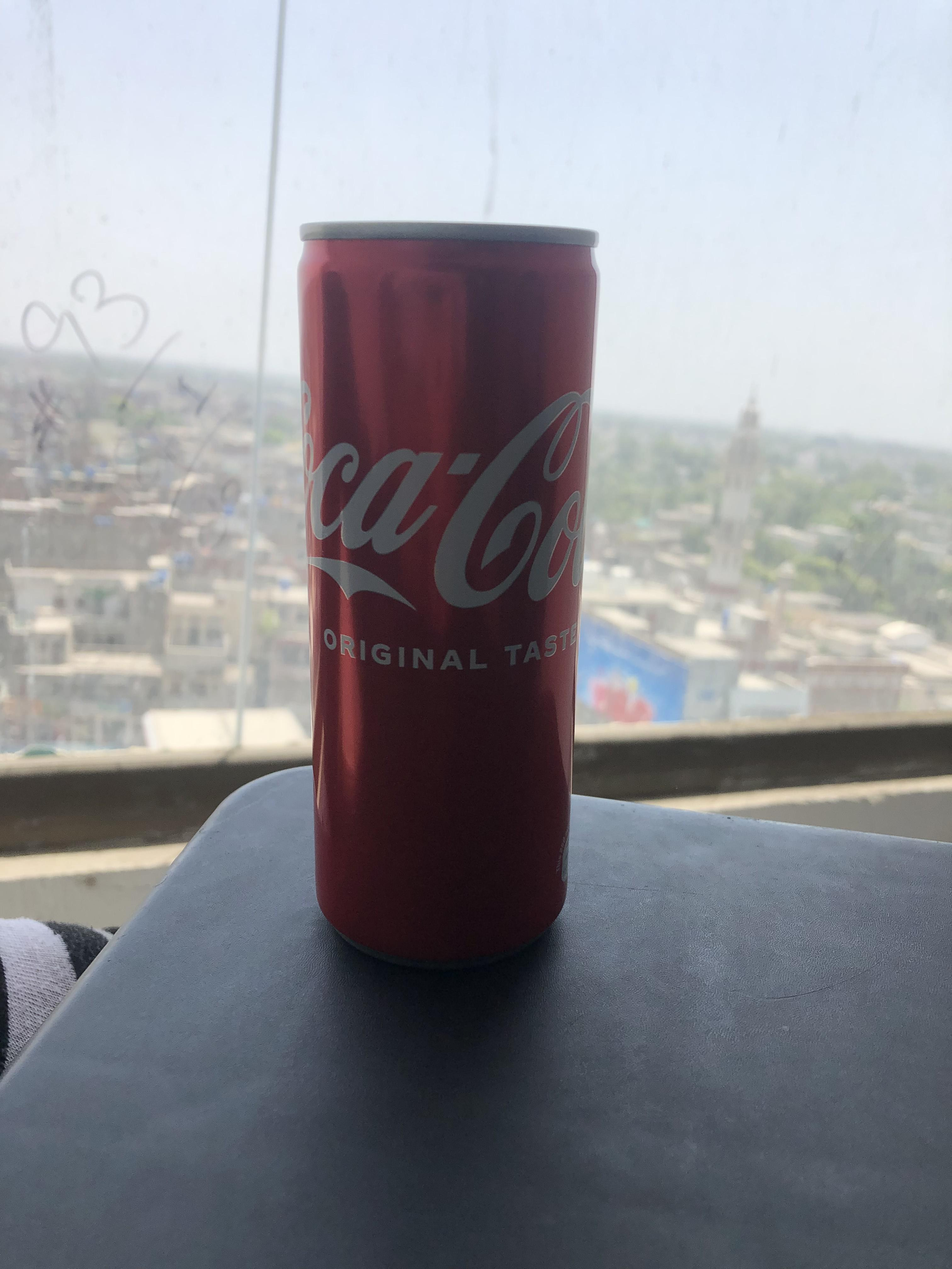tin can: (290, 216, 601, 972)
